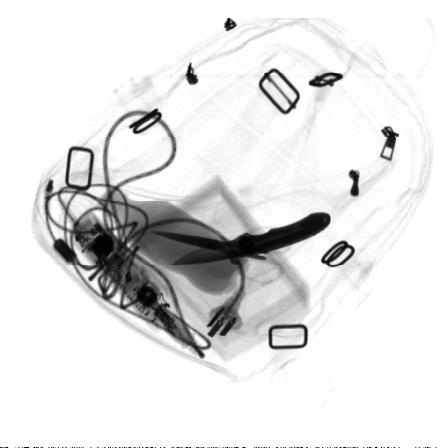Knife: (169, 211, 332, 264)
Scissors: (152, 226, 291, 285)
